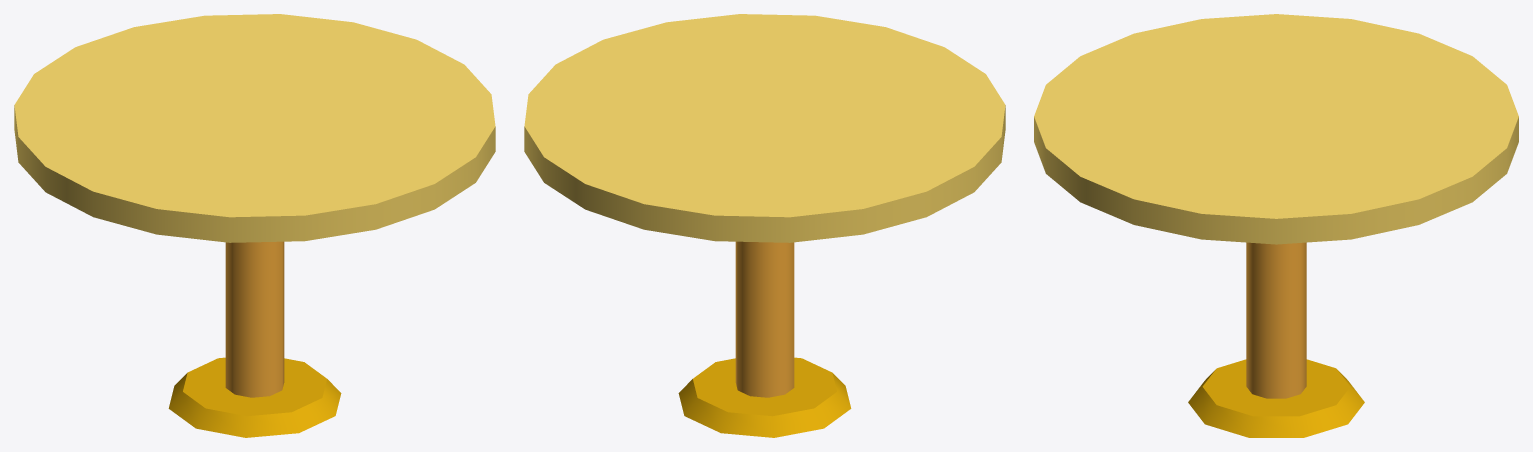
The model's file is coffe_table_03.fbx.
The picture shows the model from 3 angles, left to right: view 1: azimuth 30°, elevation 25°; view 2: azimuth 150°, elevation 25°; view 3: azimuth 270°, elevation 25°; orthographic projection.
Visible parts, largest first — view 1: coffe_table_03; view 2: coffe_table_03; view 3: coffe_table_03.
Boxes of the visible parts, x1=… form: coffe_table_03: x1=14, y1=14, x2=495, y2=437; coffe_table_03: x1=524, y1=14, x2=1005, y2=437; coffe_table_03: x1=1034, y1=14, x2=1518, y2=437.
Bounding box in the file's own units: 1.2 × 0.7808 × 1.2.
